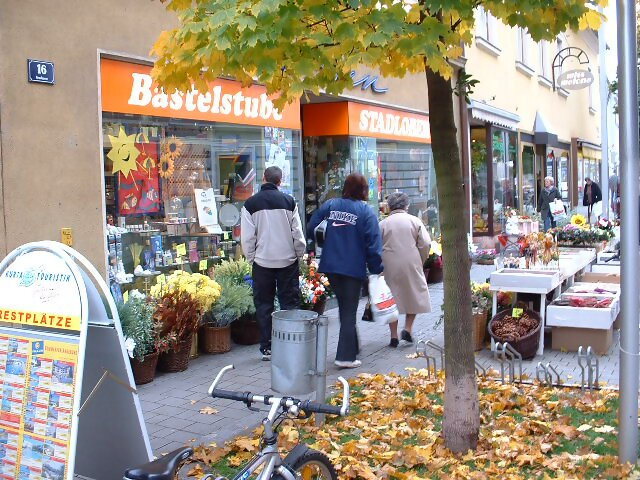person: (308, 170, 388, 372), (240, 164, 314, 357), (370, 188, 451, 350)
